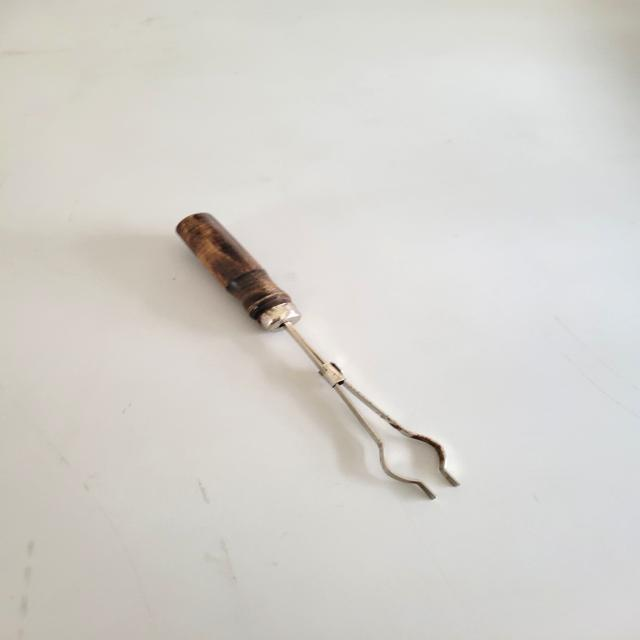TestTube_Holder: (153, 190, 475, 519)
